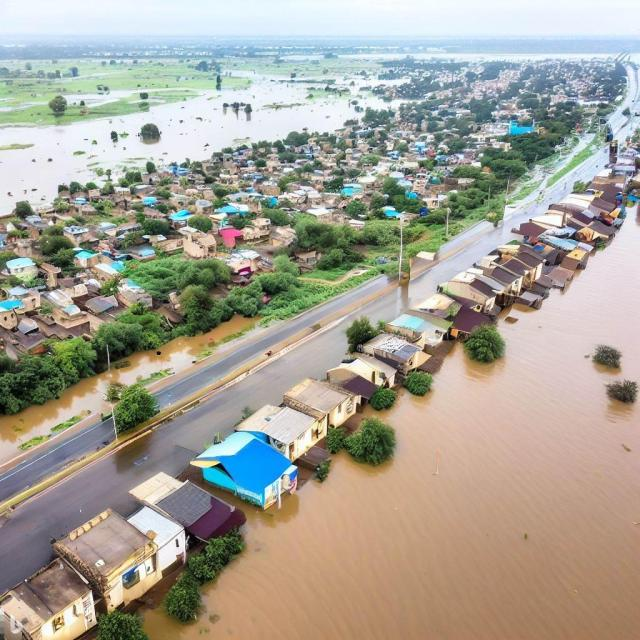flood: (145, 211, 640, 640), (0, 74, 388, 213), (339, 54, 612, 59), (64, 90, 136, 106), (282, 55, 323, 59), (623, 54, 640, 60)
house: (38, 502, 187, 618), (192, 425, 298, 513), (0, 552, 98, 640), (141, 476, 248, 554), (244, 403, 319, 469), (284, 376, 360, 428), (361, 333, 433, 375), (443, 268, 507, 314), (328, 356, 386, 403), (386, 312, 448, 349), (476, 257, 523, 297), (448, 302, 492, 338), (115, 280, 154, 309), (215, 222, 242, 250), (0, 299, 22, 329), (20, 286, 43, 312)
